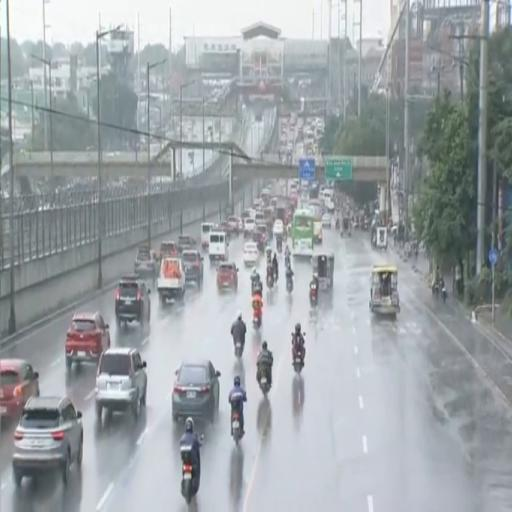bus: (292, 210, 314, 257), (308, 199, 323, 244)
car: (12, 396, 83, 487), (96, 347, 147, 420), (171, 360, 220, 423), (65, 312, 110, 370), (0, 359, 39, 418), (115, 276, 150, 326), (157, 258, 185, 303), (182, 250, 203, 285), (134, 247, 158, 277), (209, 231, 229, 262), (217, 262, 238, 291), (159, 242, 179, 261), (243, 243, 258, 266), (253, 226, 267, 250), (178, 235, 196, 252), (216, 221, 230, 239), (228, 216, 240, 235), (244, 217, 255, 237), (273, 219, 284, 236), (322, 214, 331, 228)
motorcycle: (181, 445, 198, 504), (292, 333, 303, 374), (432, 281, 447, 302), (232, 411, 241, 445), (259, 372, 270, 397), (234, 340, 244, 359), (310, 282, 317, 306), (253, 310, 261, 329), (252, 280, 261, 295), (440, 284, 447, 303), (286, 276, 293, 294), (267, 271, 273, 289), (277, 237, 282, 253), (285, 255, 290, 267), (335, 218, 340, 229)
